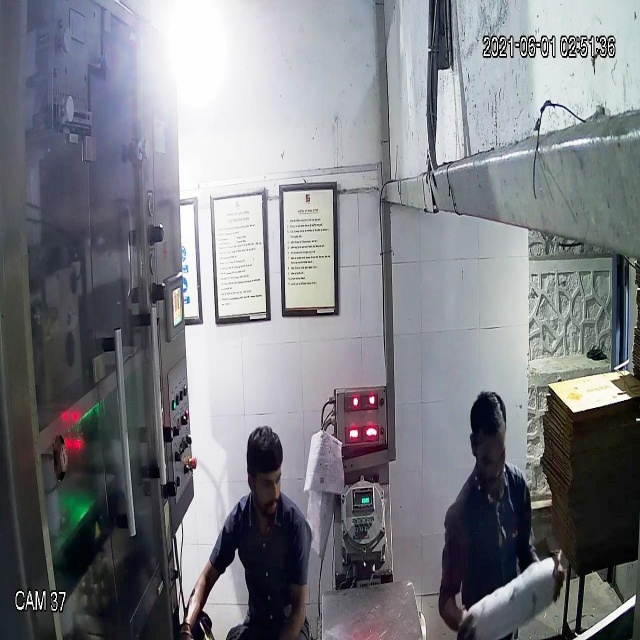Sin_gafas: (242, 460, 286, 498)
